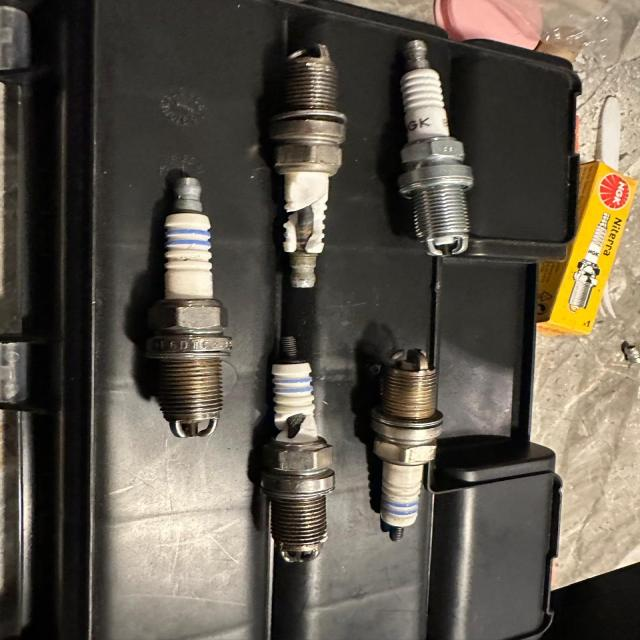damaged_spark-plug: (268, 39, 337, 286), (269, 334, 332, 563)
spark-plug: (153, 172, 232, 435), (393, 43, 480, 260), (370, 350, 438, 538)
